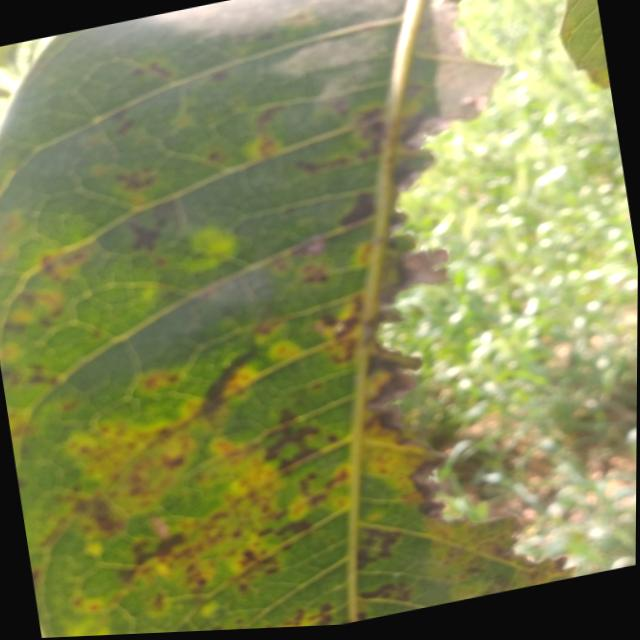Anthracnose: (183, 329, 276, 445), (196, 342, 256, 418), (264, 418, 320, 478), (355, 524, 401, 576), (396, 247, 451, 289), (339, 189, 382, 236), (132, 532, 189, 566), (84, 495, 126, 540), (40, 249, 93, 284), (354, 108, 389, 159), (250, 98, 286, 135), (115, 166, 158, 195), (296, 156, 351, 176), (360, 580, 412, 601), (250, 131, 282, 164), (276, 515, 314, 541), (128, 223, 160, 252), (141, 369, 180, 392), (299, 262, 330, 286), (149, 512, 173, 542), (293, 235, 327, 256), (146, 60, 175, 81), (115, 116, 135, 139), (206, 147, 229, 165), (152, 593, 167, 612), (280, 409, 297, 425), (31, 569, 42, 590), (211, 71, 230, 83), (17, 476, 26, 490), (213, 626, 222, 629)
